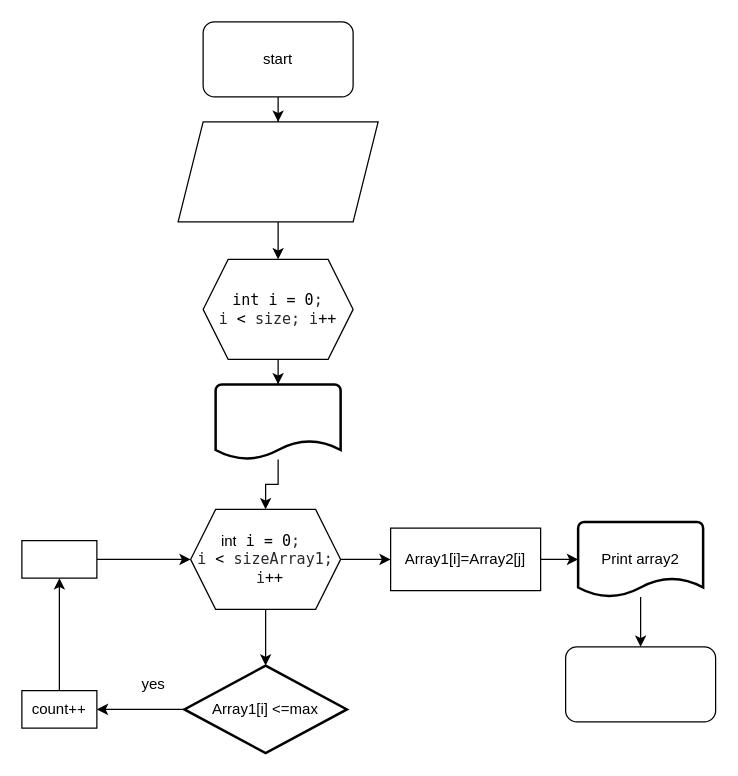
Some shapes in this 738 by 776 pixel diagram are drawn without their labels. Here are the shapes that lost their labels. From the top down, the centre of each, then its label:
At point 277,171: "array1, array2 size=n max = 3 count = 0, j=0".
At point 277,421: "Print array1".
At point 59,558: "j++".
At point 640,684: "finish".
